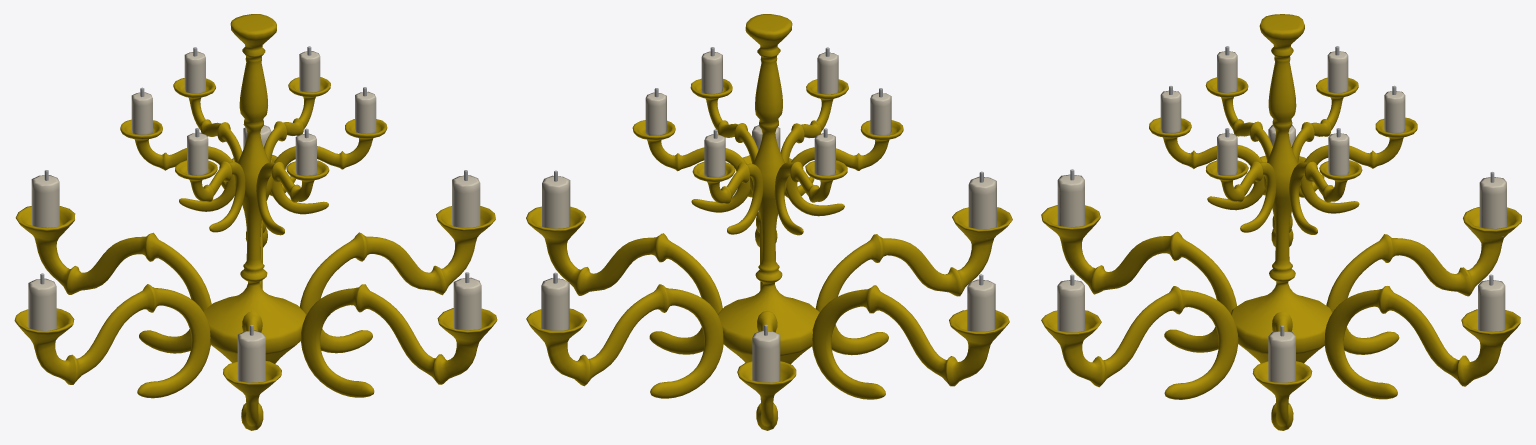
Rendered from Chandelier.fbx.
3 views of the same model, side by side, from view 1: azimuth 30°, elevation 25°; view 2: azimuth 150°, elevation 25°; view 3: azimuth 270°, elevation 25° (orthographic).
Parts seen in each view (by area): view 1: Chandelier1; view 2: Chandelier1; view 3: Chandelier1.
Part boxes in pixels (box(x1,y1,x2,y2)): Chandelier1: box(14, 14, 497, 430); Chandelier1: box(526, 14, 1012, 430); Chandelier1: box(1041, 14, 1521, 430).
Size of the model in its own units: 22.96 by 17.53 by 20.22.
